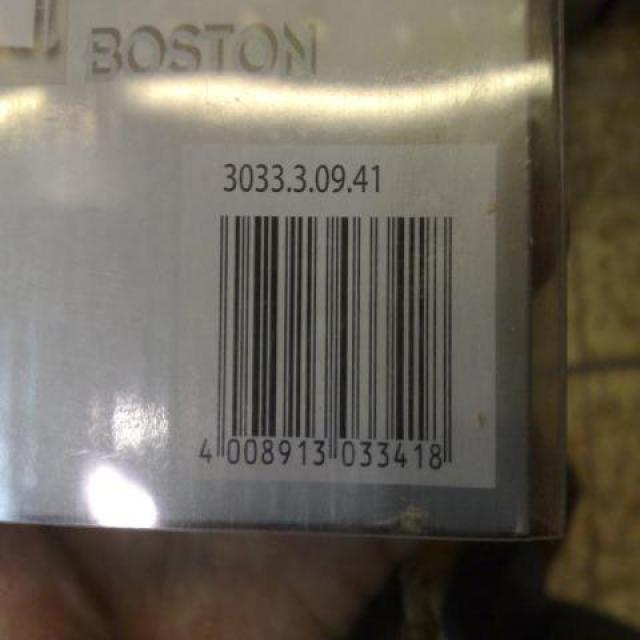Barcode: (183, 144, 497, 489)
